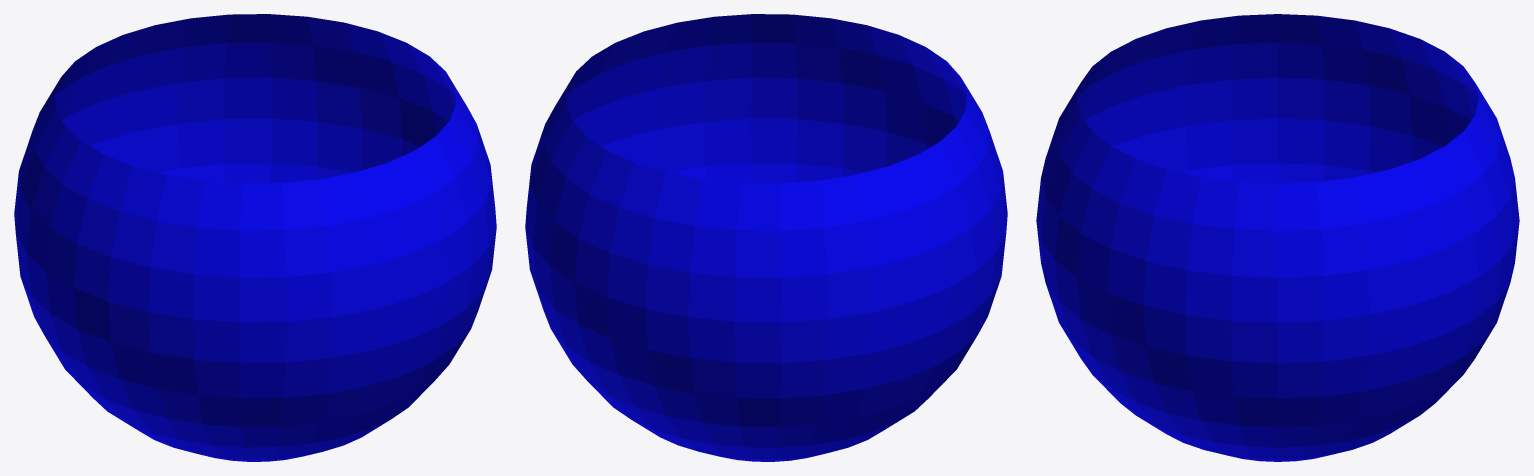
Rendered from bl_sphere_bag_basic_001.obj.
3 renders of one model, left to right at view 1: azimuth 30°, elevation 25°; view 2: azimuth 150°, elevation 25°; view 3: azimuth 270°, elevation 25°, orthographic.
Parts seen in each view (by area): view 1: Sphere.001; view 2: Sphere.001; view 3: Sphere.001.
Boxes of the visible parts, bbox=[...] form: Sphere.001: bbox=[14, 14, 496, 461]; Sphere.001: bbox=[525, 14, 1007, 461]; Sphere.001: bbox=[1036, 14, 1519, 461].
Size of the model in its own units: 1.6 by 1.24 by 1.6.
